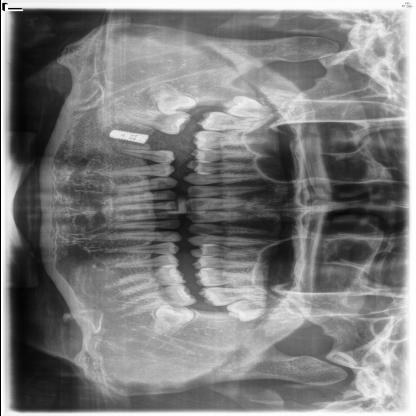ITI: (98, 128, 148, 144)
